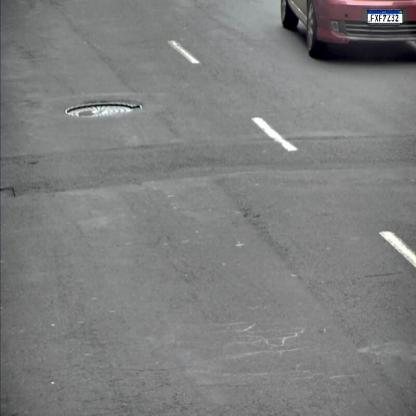PlacaM: (367, 10, 403, 23)
